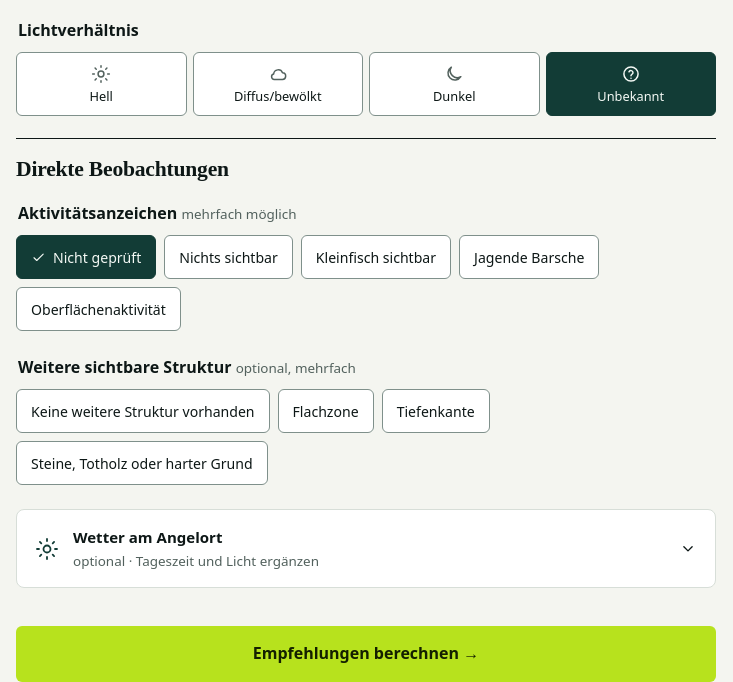
Wettervorschläge › bietet bei verweigertem Standort weiter die Ortssuche an
The width and height of the screenshot is (733, 682).
(page scrolled)
Click the button "Wetter am Angelort optional · Tageszeit und Licht ergänzen" at (148, 537), box [17,510,715,587]
(page scrolled)
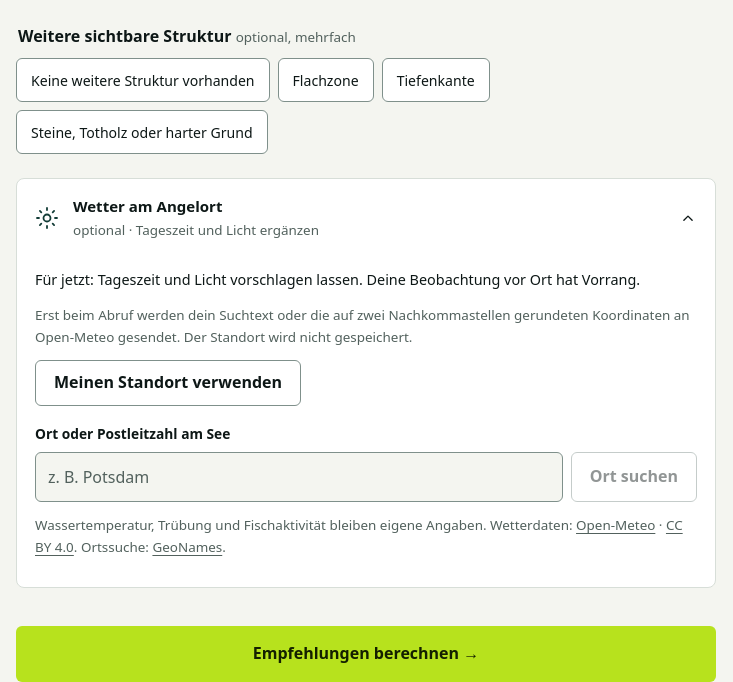
Click the button "Meinen Standort verwenden" at (168, 383), box [35,360,301,406]
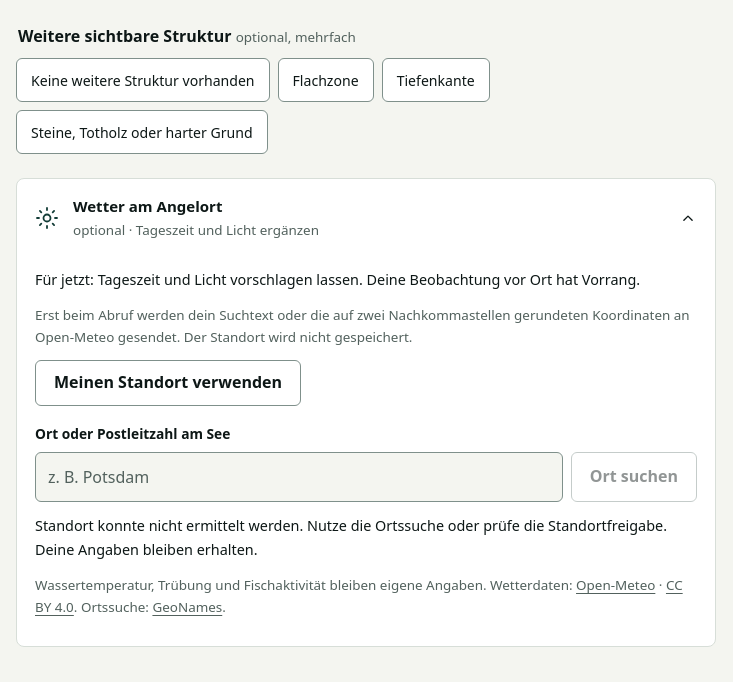
Now the field labelled "Ort oder Postleitzahl am See" is enabled, box [35,452,563,502]
Now the message shows "Standortfreigabe", box [35,516,667,535]
